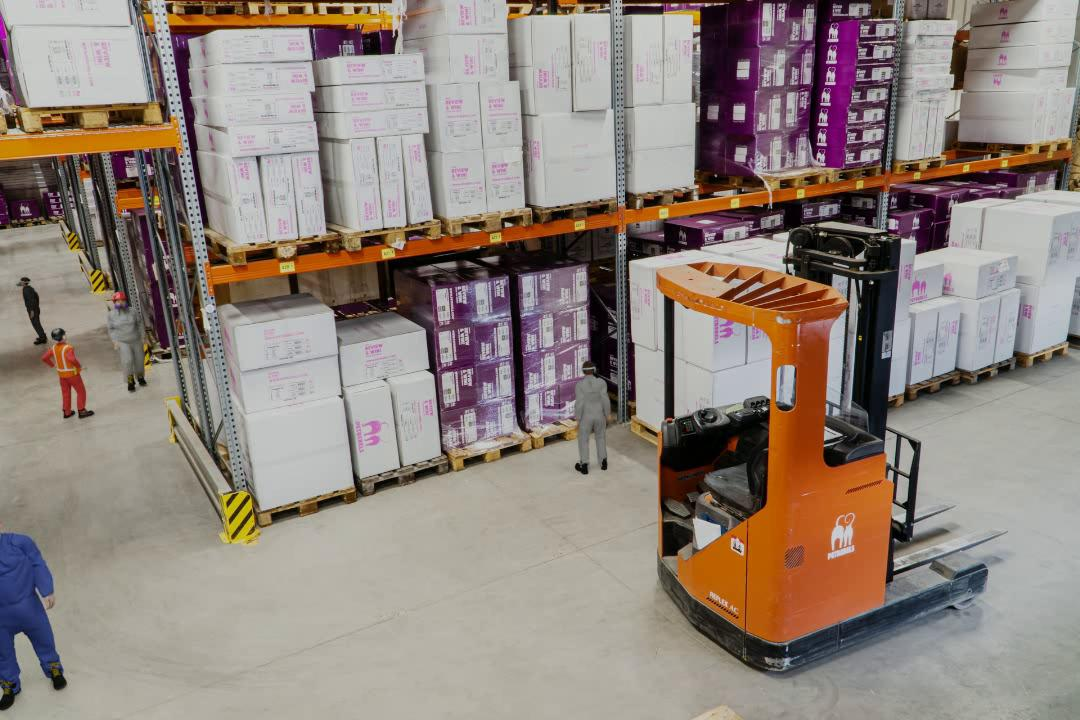Helmet: (49, 327, 68, 340), (110, 291, 127, 301)
Jacket: (53, 343, 78, 375)
Shoes: (1, 682, 21, 713), (50, 668, 67, 693), (574, 460, 589, 474), (78, 409, 96, 418), (599, 457, 609, 471), (127, 379, 136, 392), (139, 374, 147, 388), (64, 409, 76, 418), (33, 337, 47, 344)
